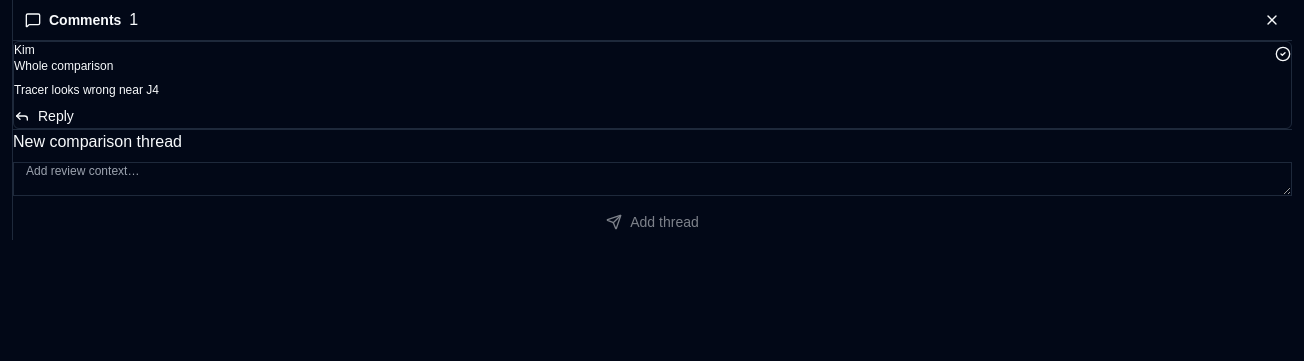
Test case: ComparisonDiscussionRail addReply › re-enables the reply button after a network rejection
Click the button "Reply" at (44, 116), box [14, 106, 74, 126]
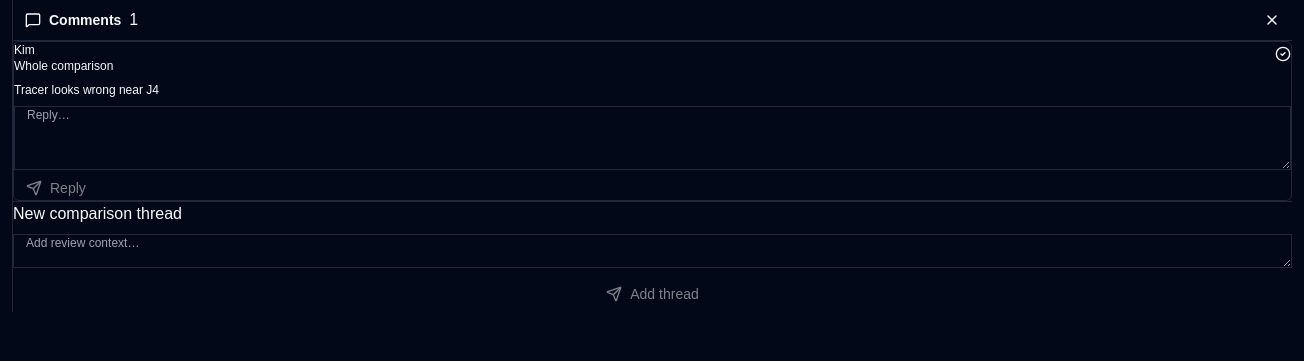
Type "Looks good to me" into the text box with placeholder "Reply…" at (652, 138), box [14, 106, 1291, 170]
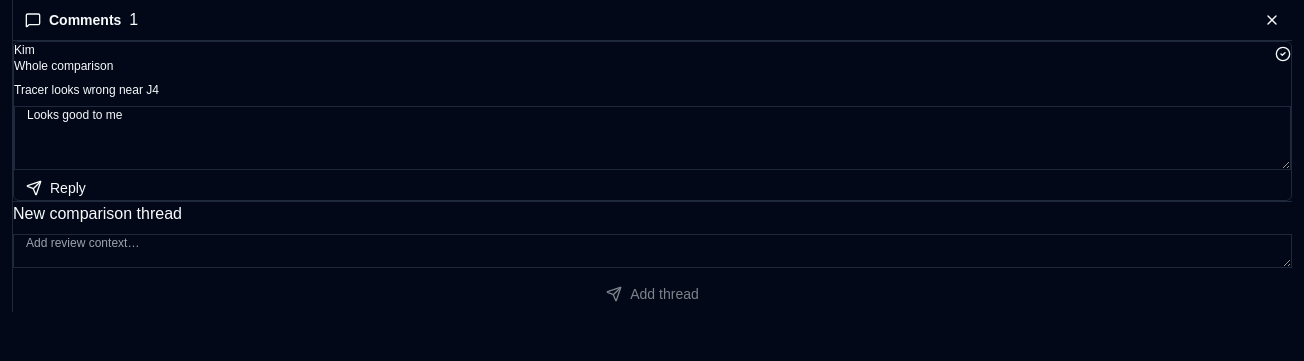
Now the button "Reply" is enabled
Click the button "Reply" at (56, 188), box [14, 178, 98, 198]
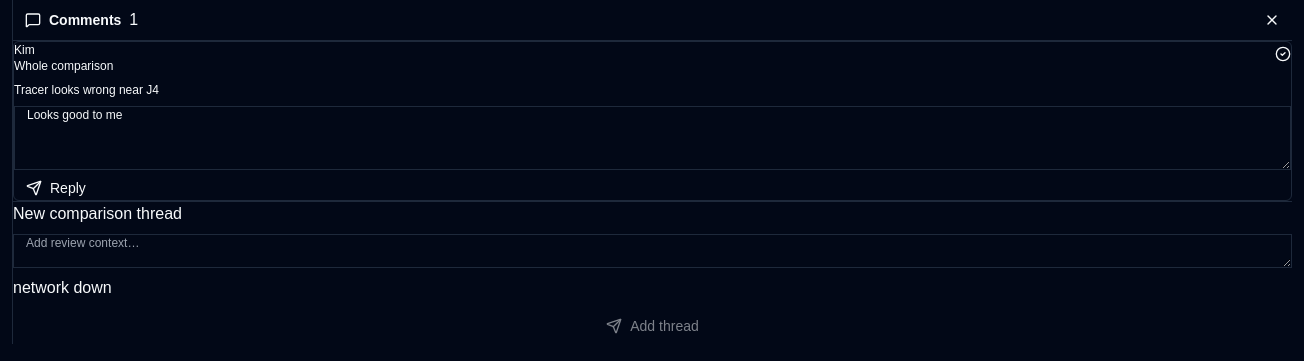
Now the button "Reply" is enabled, box [14, 178, 98, 198]
Now the text "network down" is shown, box [13, 279, 112, 296]
